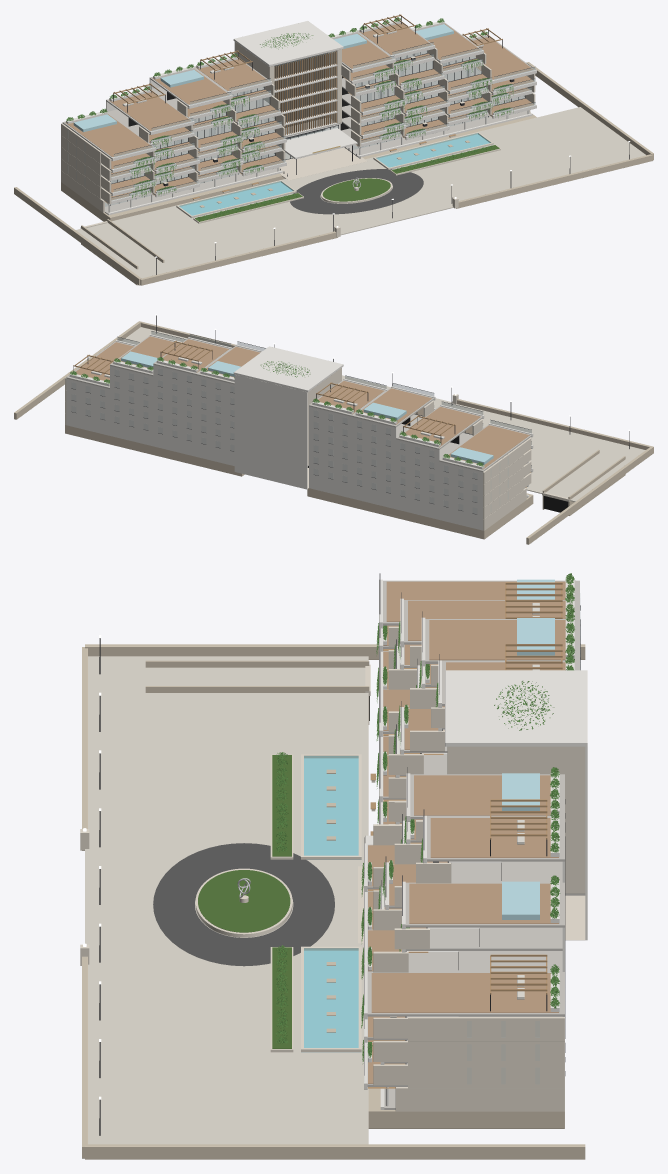
The model's file is residence.glb.
3 views of the same model, one above another, from view 1: azimuth 30°, elevation 25°; view 2: azimuth 150°, elevation 25°; view 3: azimuth 270°, elevation 25° (orthographic). The views are drawn at different scales.
Visible parts, largest first — view 1: plaza, greenery, dropoff, tower_cap, tower_inner, base_plinth_west, roof_deck_west_1, bwall_front_-1, bwall_front_1, roof_deck_west_0, canopy, plaza_entry (+27 smaller); view 2: tower_back, plaza, tower_cap, base_plinth_west, base_plinth_east, roof_deck_west_1, roof_deck_west_0, bwall_side_-1, bwall_front_-1, greenery, roof_deck_east_1, roof_deck_west_3 (+68 smaller); view 3: plaza, dropoff, tower_cap, bwall_side_1, greenery, roof_deck_east_3, tower_r, pool_water_1, pool_water_-1, pool_floor_1, pool_floor_-1, island_soil (+32 smaller).
Boxes of the visible parts, left/top/right/bottom form: plaza: left=76, top=107, right=645, bottom=278; greenery: left=66, top=17, right=513, bottom=220; dropoff: left=290, top=169, right=423, bottom=214; tower_cap: left=233, top=21, right=343, bottom=66; tower_inner: left=274, top=53, right=327, bottom=127; base_plinth_west: left=61, top=173, right=284, bottom=221; roof_deck_west_1: left=109, top=92, right=190, bottom=130; bwall_front_-1: left=140, top=231, right=338, bottom=285; bwall_front_1: left=456, top=154, right=653, bottom=208; roof_deck_west_0: left=65, top=114, right=152, bottom=156; canopy: left=283, top=127, right=357, bottom=159; plaza_entry: left=279, top=149, right=367, bottom=180; tower_back: left=234, top=374, right=307, bottom=489; plaza: left=122, top=327, right=645, bottom=501; tower_cap: left=233, top=346, right=343, bottom=392; base_plinth_west: left=307, top=488, right=533, bottom=539; base_plinth_east: left=65, top=425, right=244, bottom=476; roof_deck_west_1: left=404, top=406, right=480, bottom=447; roof_deck_west_0: left=449, top=425, right=529, bottom=469; bwall_side_-1: left=526, top=446, right=653, bottom=544; bwall_front_-1: left=457, top=399, right=650, bottom=449; greenery: left=70, top=357, right=483, bottom=466; roof_deck_east_1: left=162, top=339, right=228, bottom=372; roof_deck_west_3: left=312, top=381, right=384, bottom=414; plaza: left=85, top=656, right=368, bottom=1144; dropoff: left=153, top=843, right=334, bottom=966; tower_cap: left=445, top=670, right=587, bottom=746; bwall_side_1: left=85, top=1144, right=585, bottom=1159; greenery: left=275, top=573, right=574, bottom=1063; roof_deck_east_3: left=371, top=973, right=558, bottom=1012; tower_r: left=447, top=746, right=585, bottom=893; pool_water_1: left=304, top=948, right=358, bottom=1047; pool_water_-1: left=304, top=756, right=358, bottom=855; pool_floor_1: left=301, top=950, right=361, bottom=1052; pool_floor_-1: left=304, top=758, right=361, bottom=859; island_soil: left=198, top=870, right=290, bottom=932.
Size of the model in its own units: 157 by 34.36 by 66.9.
